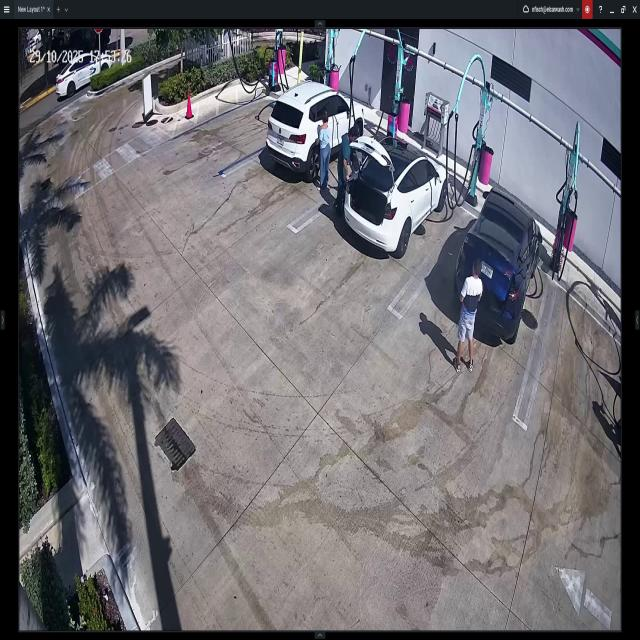Car: (456, 182, 544, 347), (342, 134, 448, 258), (272, 82, 365, 177)
